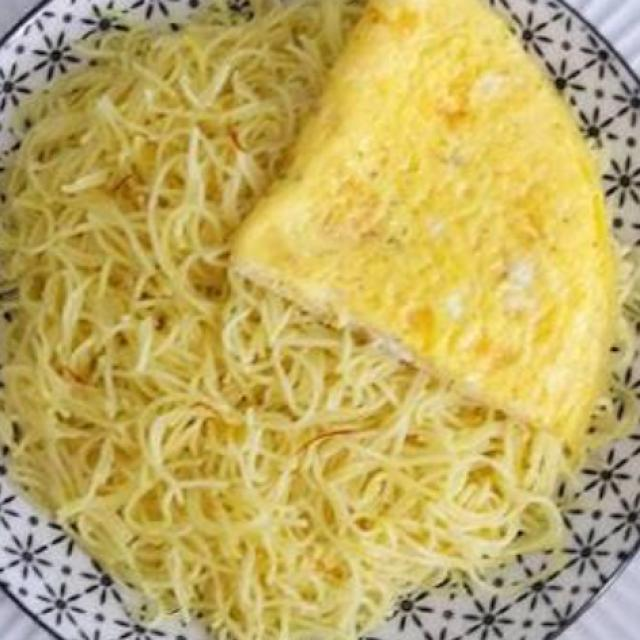Balaleet: (19, 4, 626, 623)
